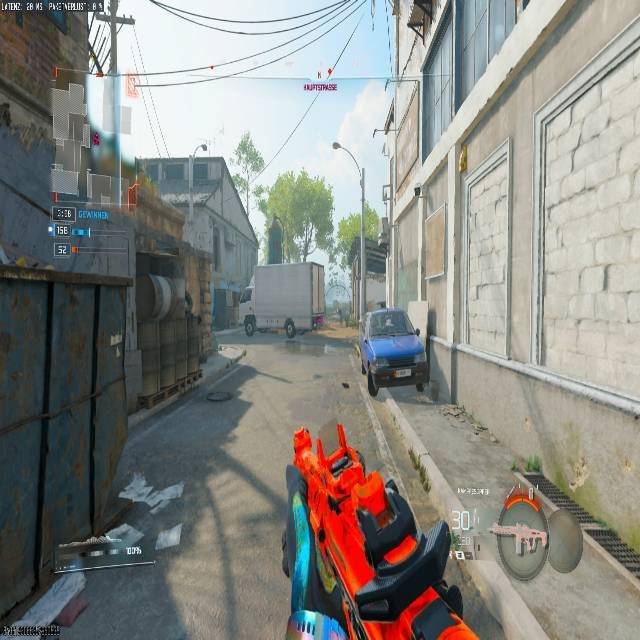player: (243, 313, 255, 336), (284, 317, 295, 337)
